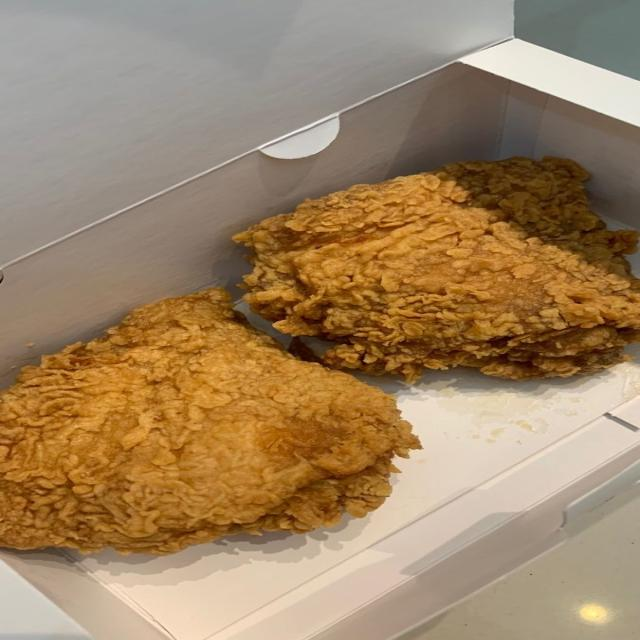Chicken -Fried Chicken-: (0, 284, 447, 557), (214, 139, 640, 367)
